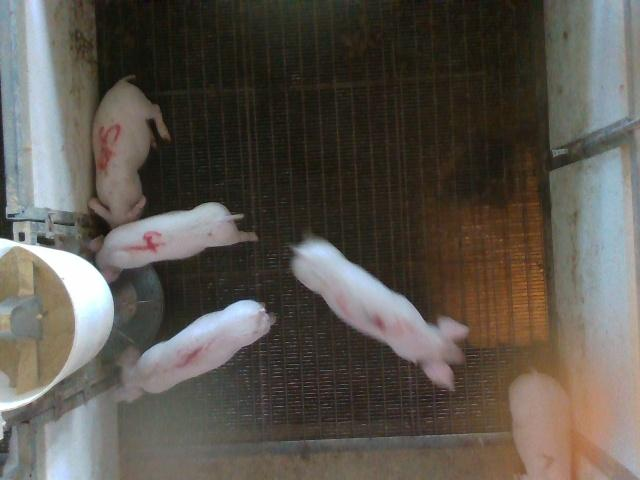pig-1: (116, 300, 275, 402)
pig-3: (292, 236, 469, 389)
pig-4: (90, 202, 258, 281)
pig-5: (89, 75, 170, 228)
